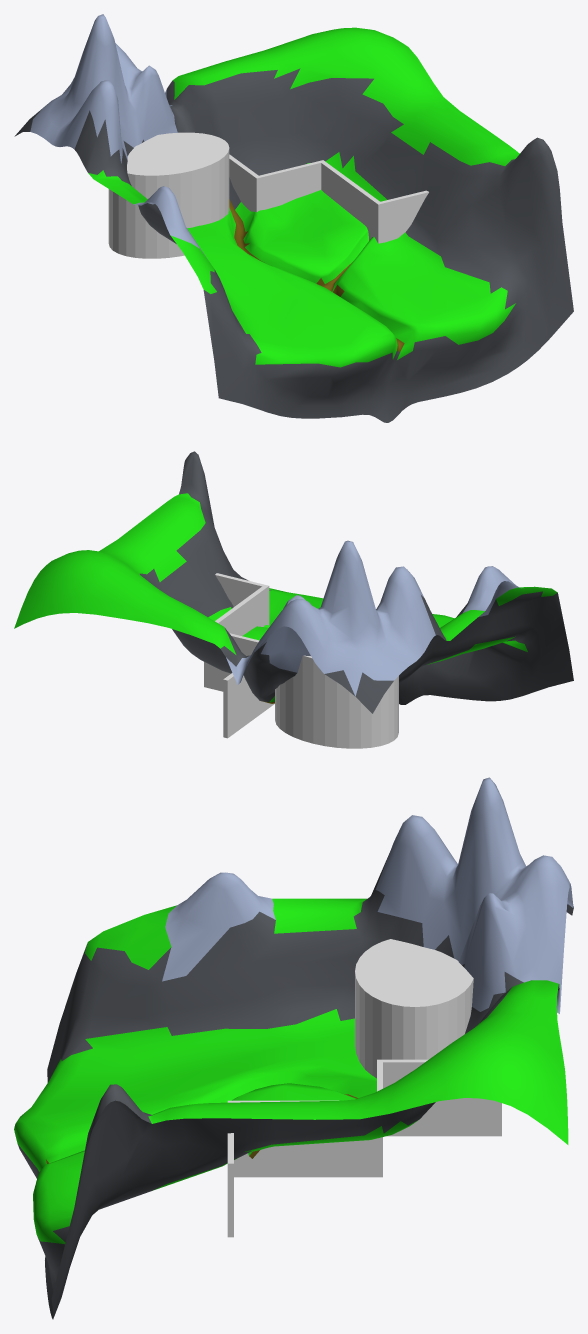
The model's file is gameMap.glb.
The picture shows the model from 3 angles, top to bottom: view 1: azimuth 30°, elevation 25°; view 2: azimuth 150°, elevation 25°; view 3: azimuth 270°, elevation 25°; orthographic projection. The views are drawn at different scales.
Parts seen in each view (by area): view 1: Plane.001, Cylinder, Cube; view 2: Plane.001, Cylinder, Cube; view 3: Plane.001, Cylinder, Cube.
Boxes of the visible parts, bbox=[...] form: Plane.001: bbox=[14, 14, 573, 422]; Cylinder: bbox=[108, 132, 229, 258]; Cube: bbox=[229, 154, 428, 243]; Plane.001: bbox=[14, 451, 573, 713]; Cylinder: bbox=[275, 655, 398, 748]; Cube: bbox=[204, 573, 274, 738]; Plane.001: bbox=[14, 777, 573, 1319]; Cylinder: bbox=[355, 939, 473, 1078]; Cube: bbox=[227, 1059, 501, 1237].
Bounding box in the file's own units: 4.23 × 3.47 × 4.31.
